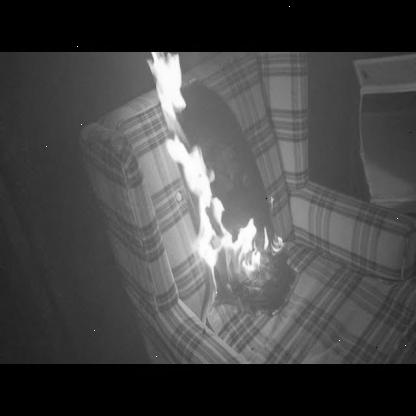fire: (144, 52, 293, 288)
